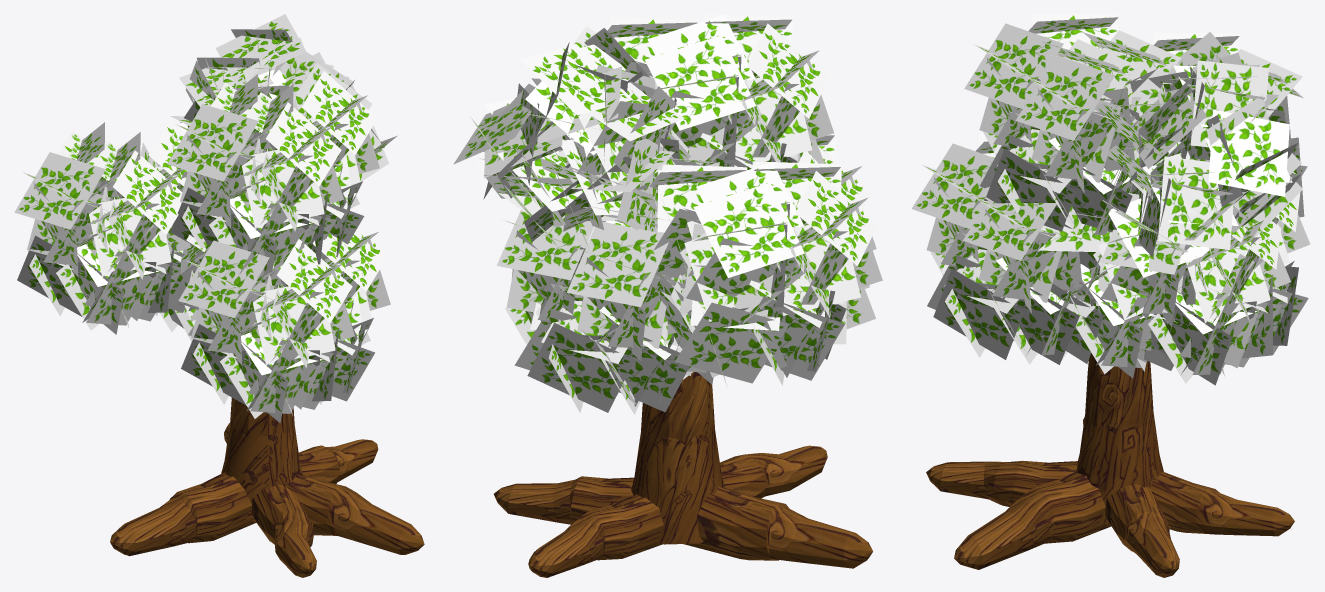
Rendered from Tree1.fbx.
3 renders of one model, left to right at view 1: azimuth 30°, elevation 25°; view 2: azimuth 150°, elevation 25°; view 3: azimuth 270°, elevation 25°, orthographic. The views are drawn at different scales.
Parts seen in each view (by area): view 1: Cylinder044; view 2: Cylinder044; view 3: Cylinder044.
Part boxes in pixels (<box>): Cylinder044: <box>14,14,424,577</box>; Cylinder044: <box>453,14,882,577</box>; Cylinder044: <box>911,14,1310,577</box>.
Size of the model in its own units: 841 by 1045 by 758.
Materials: 2 (2 with a texture image).
